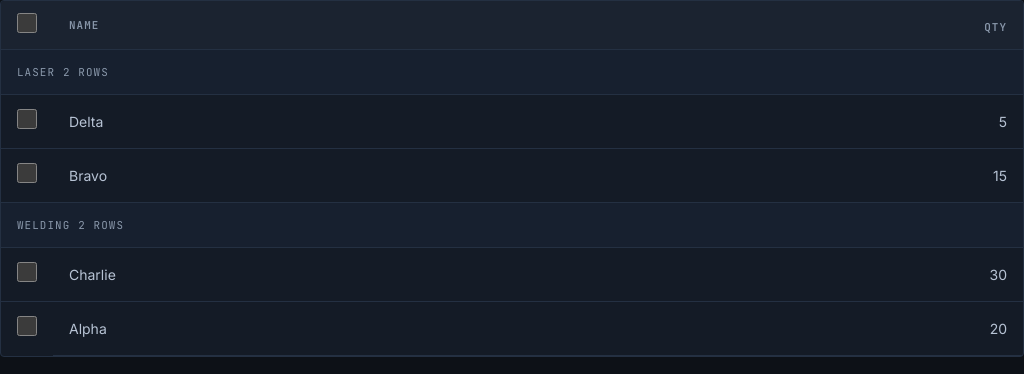
Scenario: DataTable — groupBy › keeps selection + select-all working across groups
Click the checkbox named "Select all rows". click: x=27, y=23
box: [17,13,37,33]
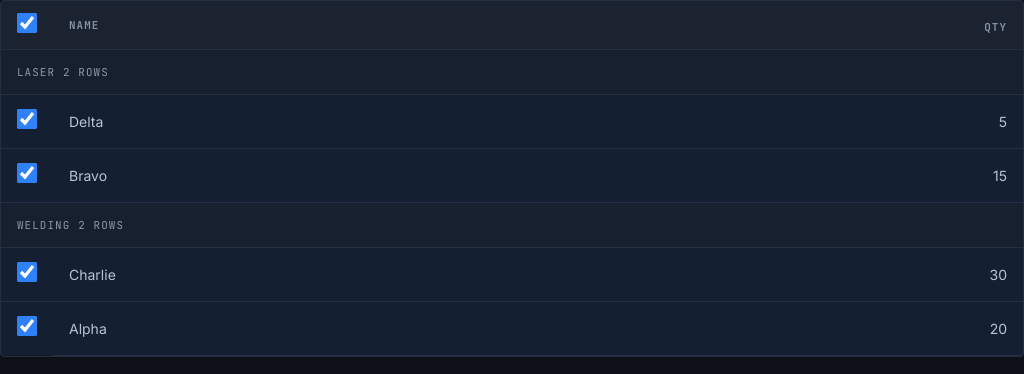
Expected: the checkbox named "Select row 1" is checked, [17,262,37,282]
Expected: the checkbox named "Select row 2" is checked, [17,109,37,129]
Expected: the checkbox named "Select row 3" is checked, [17,316,37,336]
